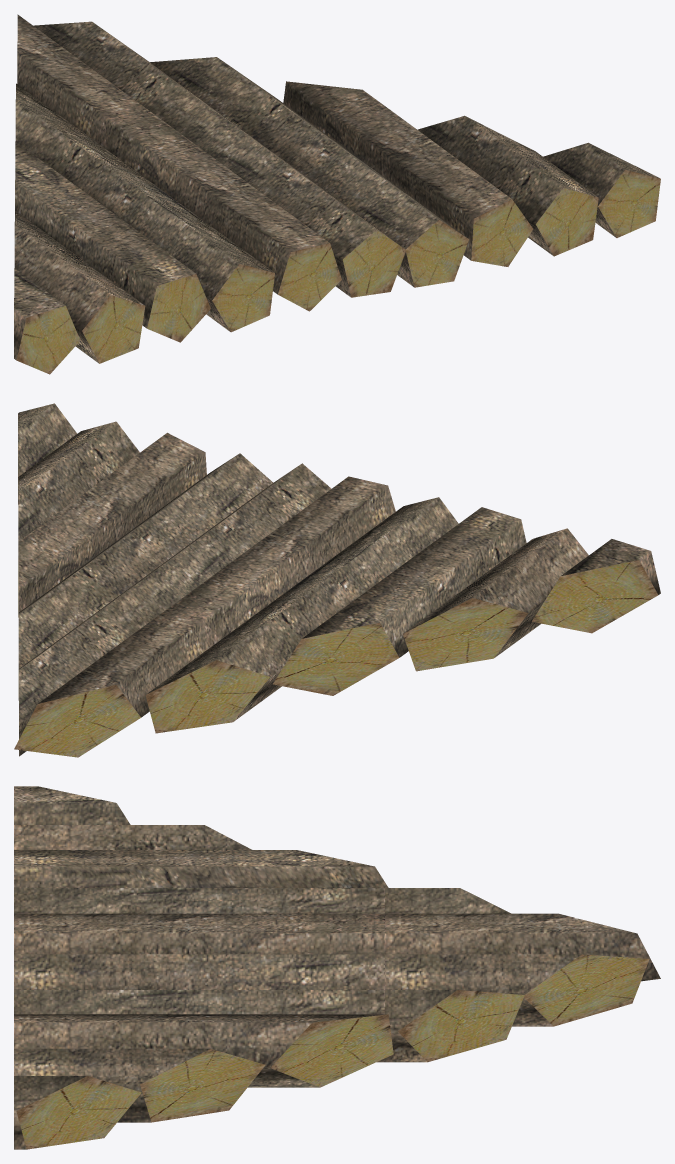
File: construction_wood_roof_triangle_mesh.fbx
3 renders of one model, top to bottom at view 1: azimuth 30°, elevation 25°; view 2: azimuth 150°, elevation 25°; view 3: azimuth 270°, elevation 25°, orthographic.
Parts seen in each view (by area): view 1: construction_wood_roof_triangle_mesh; view 2: construction_wood_roof_triangle_mesh; view 3: construction_wood_roof_triangle_mesh.
Boxes of the visible parts, left/top/right/bottom form: construction_wood_roof_triangle_mesh: left=14, top=14, right=660, bottom=374; construction_wood_roof_triangle_mesh: left=14, top=403, right=660, bottom=757; construction_wood_roof_triangle_mesh: left=14, top=786, right=660, bottom=1149.
Bounding box in the file's own units: 300 × 31.33 × 261.
